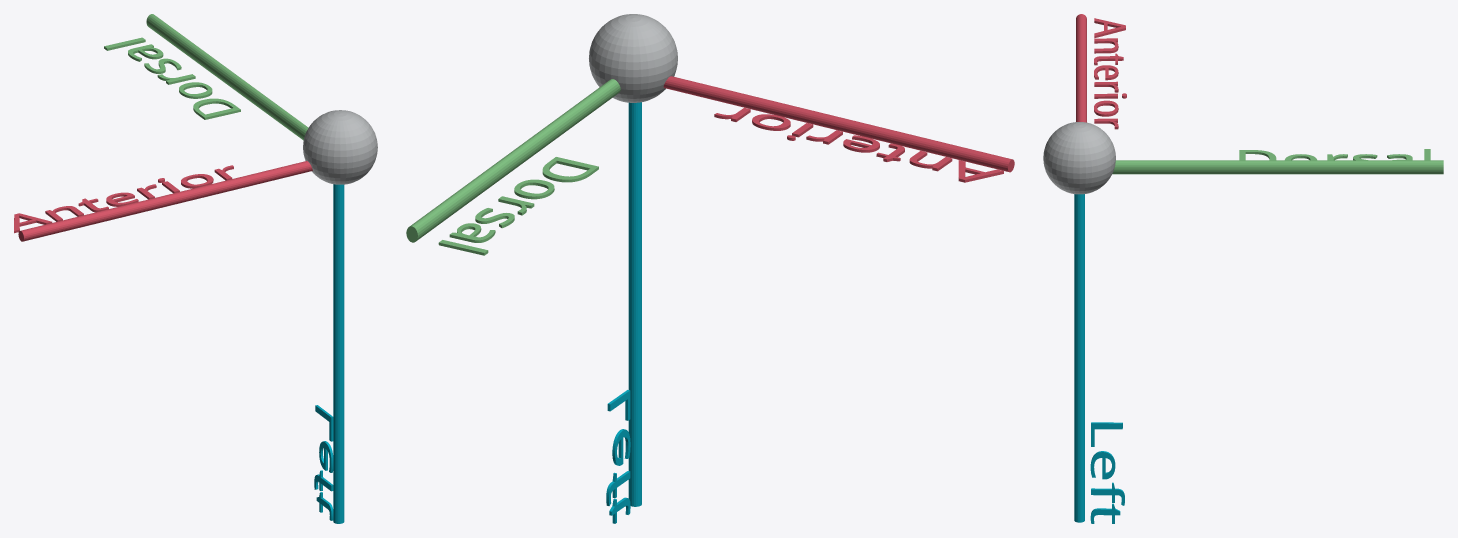
File: ntv-direction-axis.glb
3 views of the same model, side by side, from view 1: azimuth 30°, elevation 25°; view 2: azimuth 150°, elevation 25°; view 3: azimuth 270°, elevation 25° (orthographic). The views are drawn at different scales.
Visible parts, largest first — view 1: Mesh_Mesh_head_geo.001_lambert2SG.001; view 2: Mesh_Mesh_head_geo.001_lambert2SG.001; view 3: Mesh_Mesh_head_geo.001_lambert2SG.001.
Boxes of the visible parts, x1=… form: Mesh_Mesh_head_geo.001_lambert2SG.001: x1=14, y1=14, x2=377, y2=523; Mesh_Mesh_head_geo.001_lambert2SG.001: x1=406, y1=14, x2=1014, y2=523; Mesh_Mesh_head_geo.001_lambert2SG.001: x1=1043, y1=14, x2=1443, y2=523.
Size of the model in its own units: 108 by 121 by 110.
